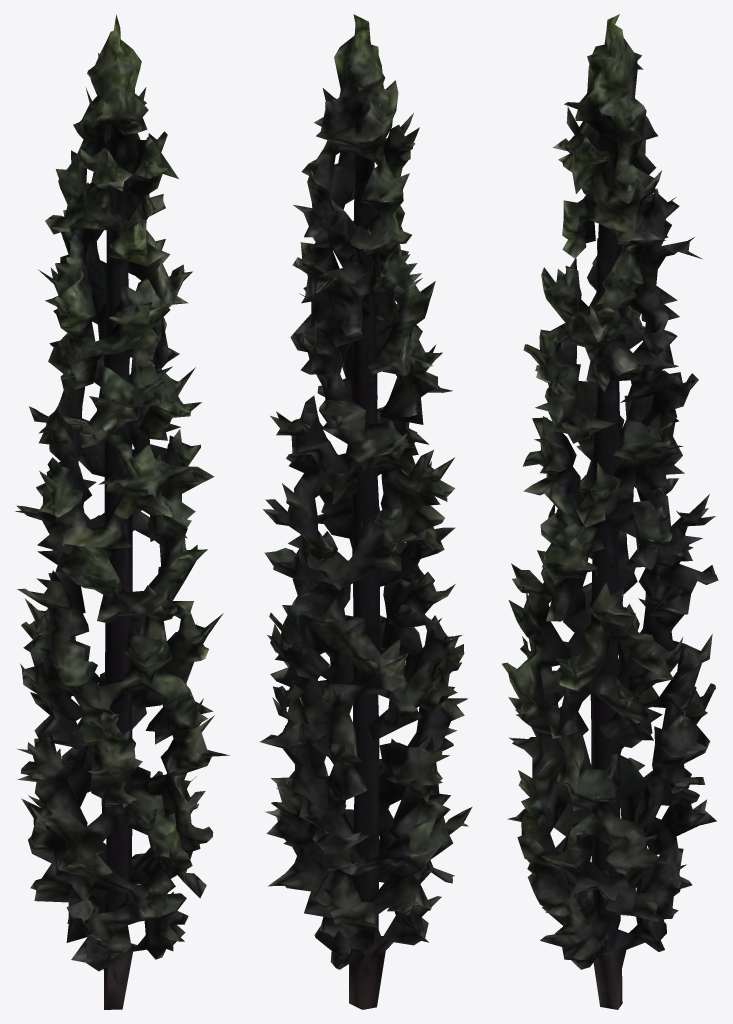
Rendered from baum_zypresse.glb.
3 views of the same model, side by side, from view 1: azimuth 30°, elevation 25°; view 2: azimuth 150°, elevation 25°; view 3: azimuth 270°, elevation 25° (orthographic).
Parts seen in each view (by area): view 1: tripo_node_72e5b3c6-73f3-4140-bdf2-095f5f541492; view 2: tripo_node_72e5b3c6-73f3-4140-bdf2-095f5f541492; view 3: tripo_node_72e5b3c6-73f3-4140-bdf2-095f5f541492.
Part boxes in pixels (bbox=[...]): tripo_node_72e5b3c6-73f3-4140-bdf2-095f5f541492: bbox=[15, 14, 229, 1009]; tripo_node_72e5b3c6-73f3-4140-bdf2-095f5f541492: bbox=[260, 14, 472, 1009]; tripo_node_72e5b3c6-73f3-4140-bdf2-095f5f541492: bbox=[502, 14, 718, 1009].
Size of the model in its own units: 0.1986 by 0.9884 by 0.1955.
1 material, 1 textured.
